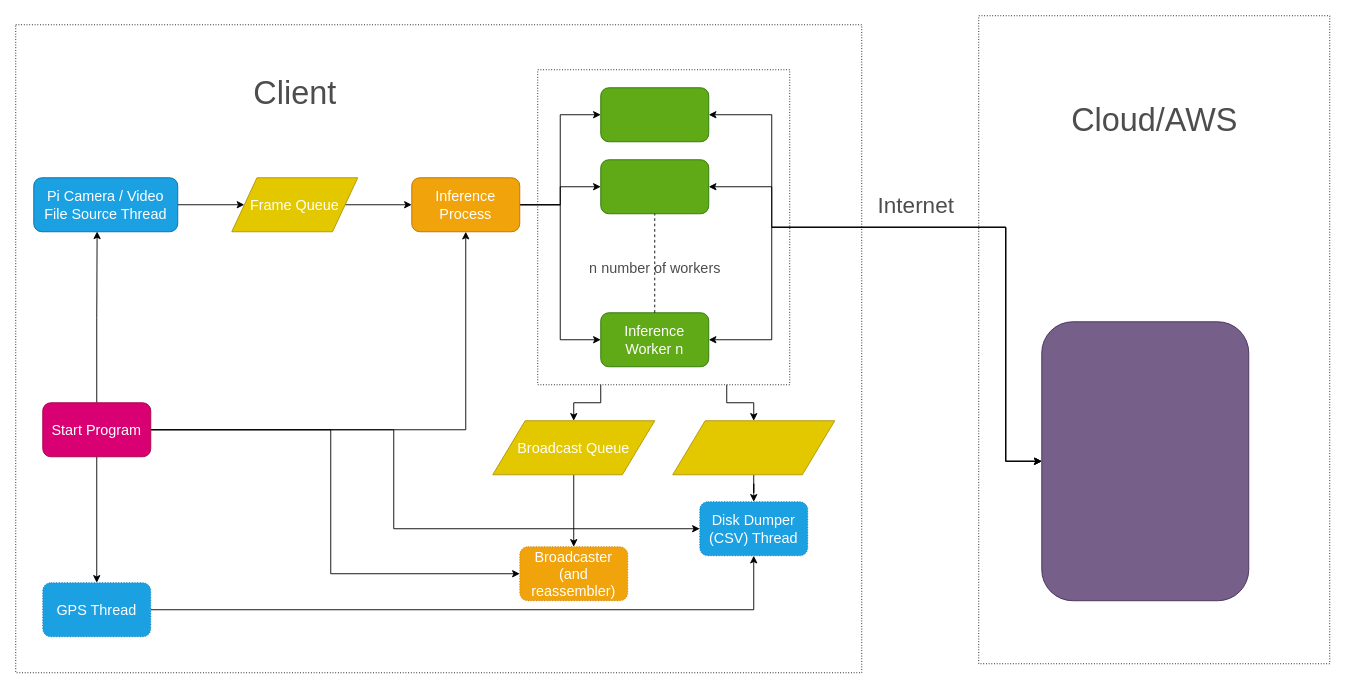
The diagram is 1346 pixels wide and 689 high, and some of its shapes have lost their labels. Each missing label, with the centre of its shape:
"Cortex APIs (REST API endpoints)" goes at (1145,461).
"Inference Worker 1" goes at (654,114).
"Inference Worker 2" goes at (654,186).
"Predicts Queue" goes at (753,447).
